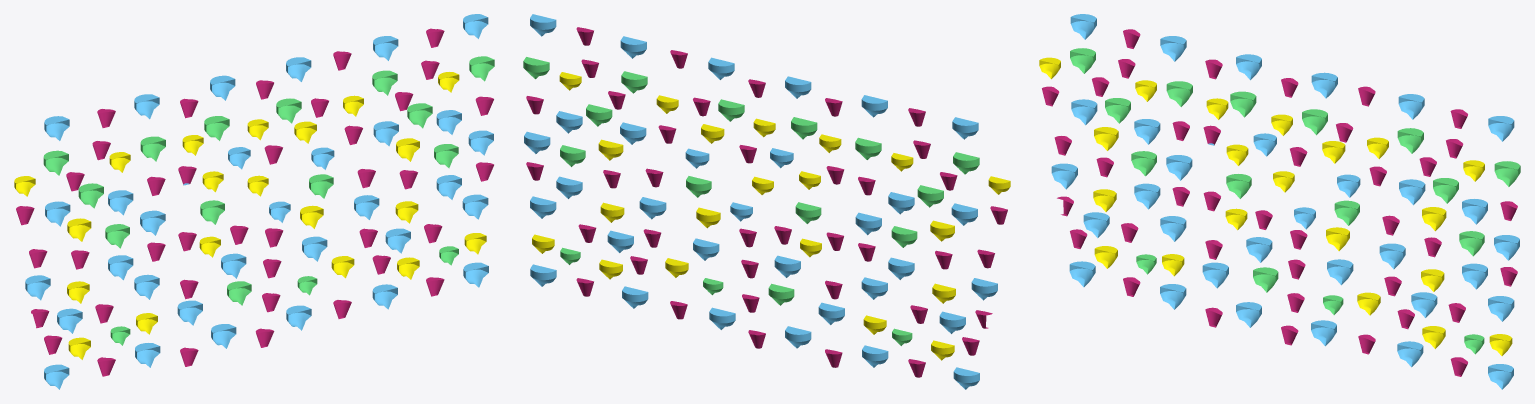
File: climbing_components.fbx
3 renders of one model, left to right at view 1: azimuth 30°, elevation 25°; view 2: azimuth 150°, elevation 25°; view 3: azimuth 330°, elevation 25°, orthographic.
Parts seen in each view (by area): view 1: Climbing_Components; view 2: Climbing_Components; view 3: Climbing_Components.
Boxes of the visible parts, x1,y1,x2,y2 form: Climbing_Components: (14,14,494,389); Climbing_Components: (523,14,1010,389); Climbing_Components: (1039,14,1520,389).
Bounding box in the file's own units: 41.32 × 22.74 × 1.33.
